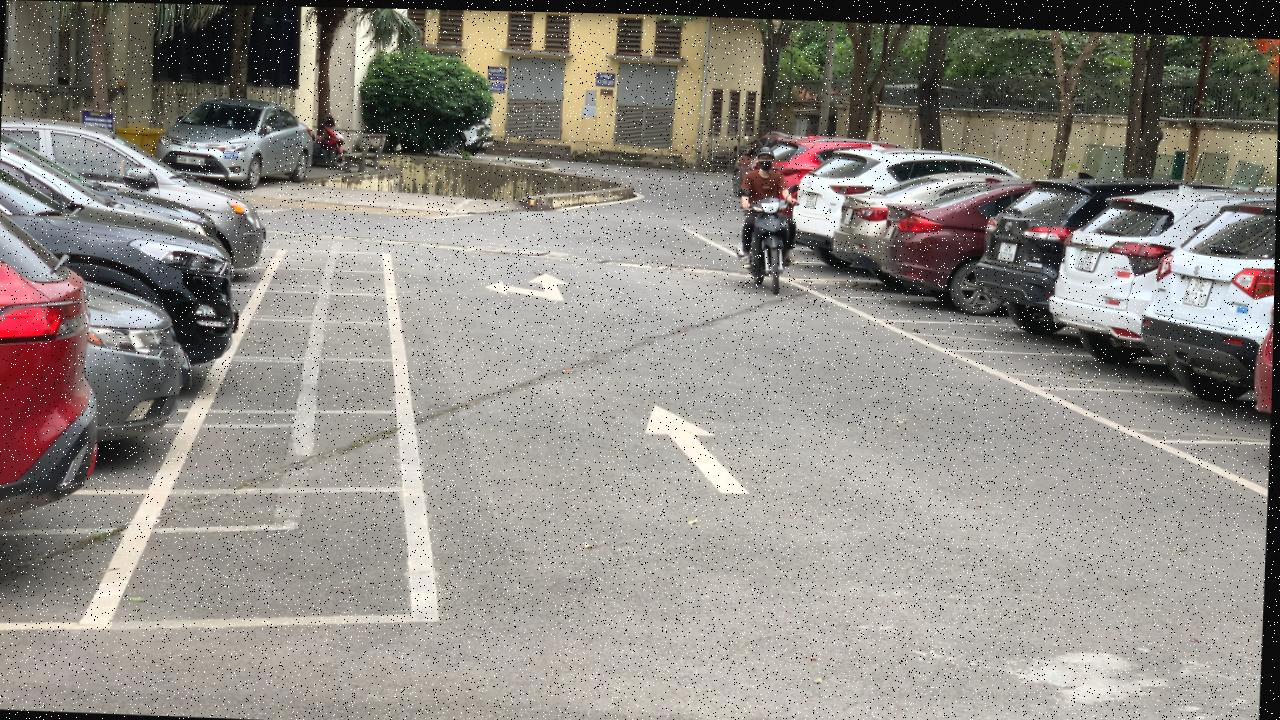helmet: (757, 143, 776, 157)
motorcyclist: (735, 142, 802, 292)
